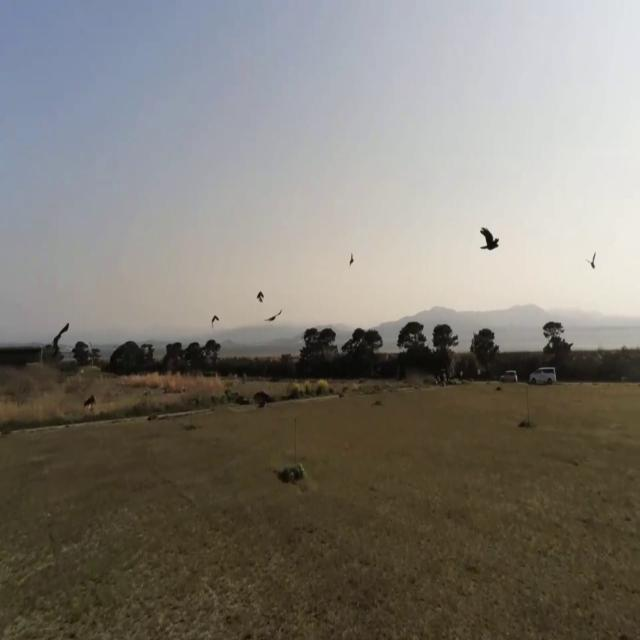bird: (480, 217, 500, 258), (267, 303, 281, 326), (588, 246, 596, 274), (210, 308, 220, 330), (256, 285, 265, 306), (349, 249, 354, 272)
